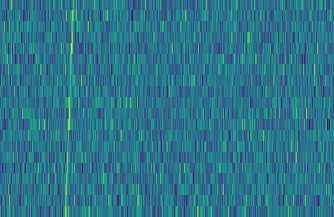signal: (59, 0, 75, 217)
